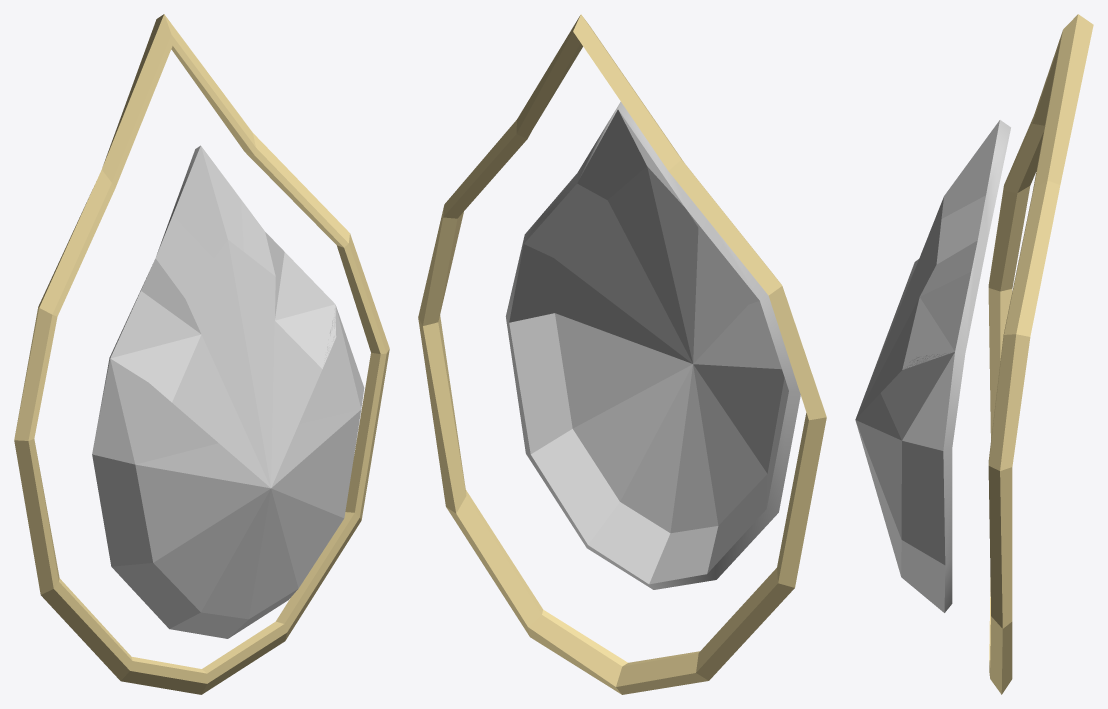
File: Gem.fbx
The picture shows the model from 3 angles, left to right: view 1: azimuth 30°, elevation 25°; view 2: azimuth 150°, elevation 25°; view 3: azimuth 270°, elevation 25°; orthographic projection. The views are drawn at different scales.
Parts seen in each view (by area): view 1: uneGemsPrinc, ornementSureleve; view 2: uneGemsPrinc, ornementSureleve; view 3: uneGemsPrinc, ornementSureleve.
Part boxes in pixels (x1,y1,x2,y2): uneGemsPrinc: [92, 145, 364, 638]; ornementSureleve: [14, 14, 389, 694]; uneGemsPrinc: [505, 101, 800, 589]; ornementSureleve: [418, 14, 826, 694]; uneGemsPrinc: [855, 120, 1010, 612]; ornementSureleve: [988, 14, 1093, 694].
Size of the model in its own units: 0.4592 by 0.7632 by 0.2451.
